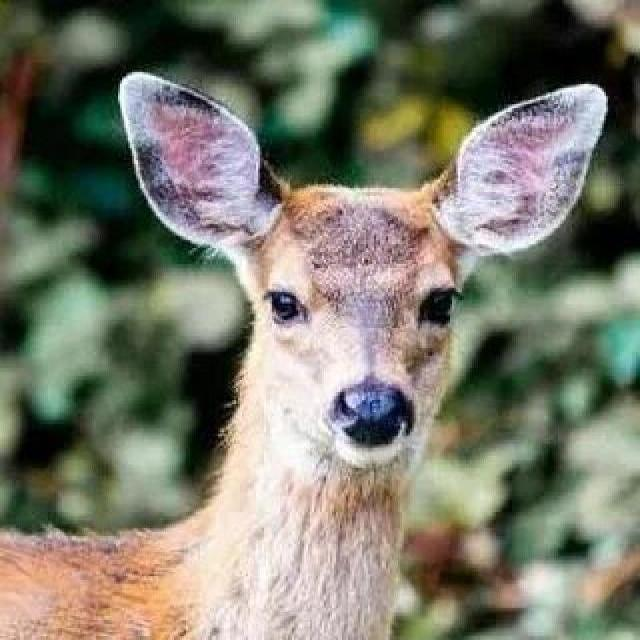deer: (88, 11, 590, 617)
